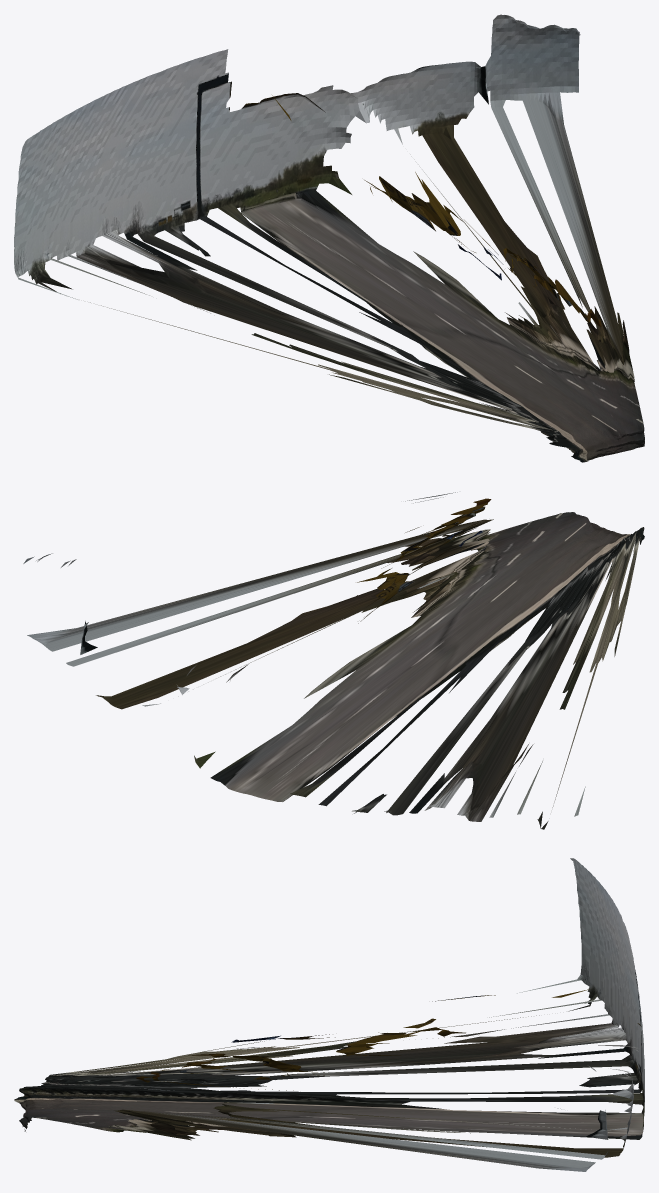
3 renders of one model, top to bottom at view 1: azimuth 30°, elevation 25°; view 2: azimuth 150°, elevation 25°; view 3: azimuth 270°, elevation 25°, orthographic. The views are drawn at different scales.
Parts seen in each view (by area): view 1: defaultobject; view 2: defaultobject; view 3: defaultobject.
Boxes of the visible parts, box(x1,y1,x2,y2) form: defaultobject: box(14, 14, 644, 462); defaultobject: box(23, 492, 644, 829); defaultobject: box(14, 858, 644, 1171).
Bounding box in the file's own units: 41.11 × 12.2 × 44.74.
Materials: 1 (1 with a texture image).
